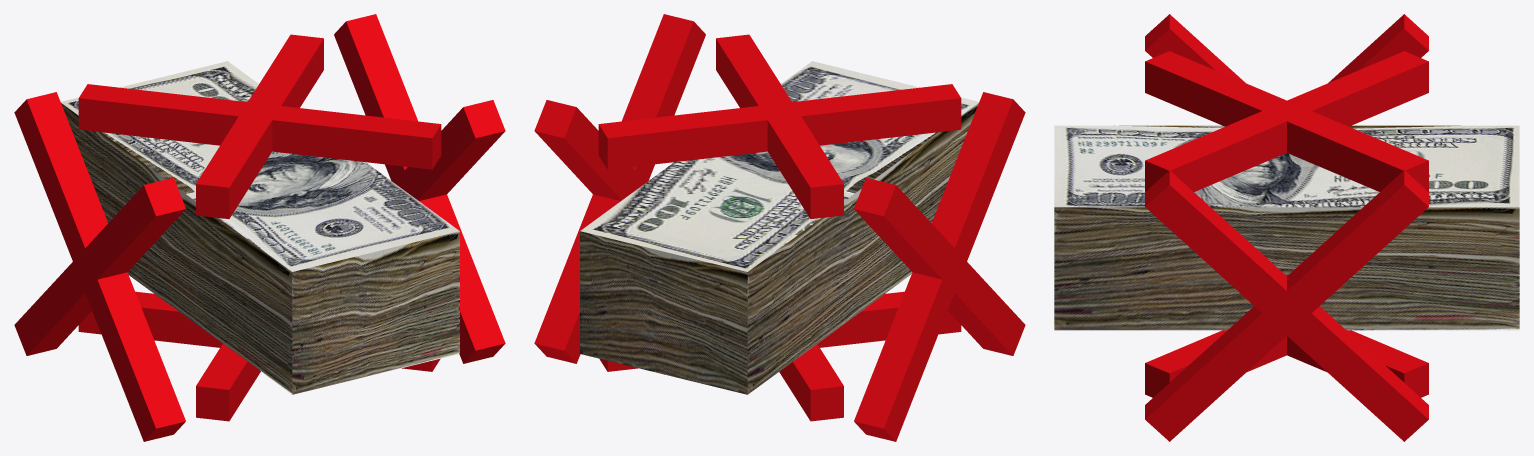
Rendered from money_take.fbx.
The picture shows the model from 3 angles, left to right: view 1: azimuth 30°, elevation 25°; view 2: azimuth 150°, elevation 25°; view 3: azimuth 270°, elevation 25°; orthographic projection.
Visible parts, largest first — view 1: X, Cube; view 2: X, Cube; view 3: Cube, X.
Boxes of the visible parts, x1,y1,x2,y2 form: X: (14,14,505,441); Cube: (61,61,459,394); X: (534,14,1025,441); Cube: (580,61,978,394); Cube: (1054,125,1519,330); X: (1145,14,1428,441).
Size of the model in its own units: 4.17 by 2.93 by 4.8.
